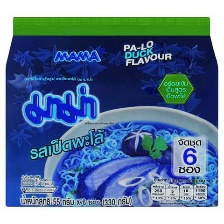snack: (0, 7, 224, 212)
